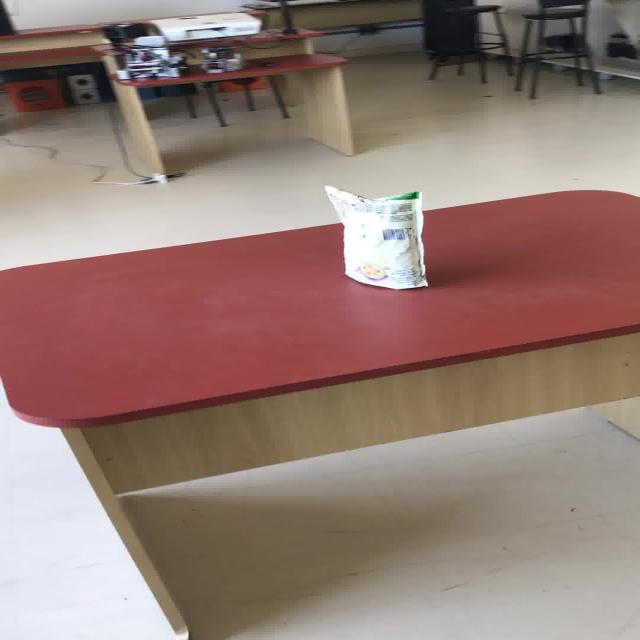corn flakes: (322, 184, 428, 289)
